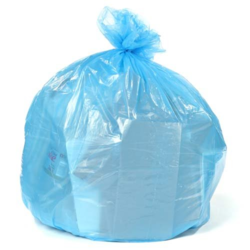plastic_bag: (16, 5, 233, 245)
